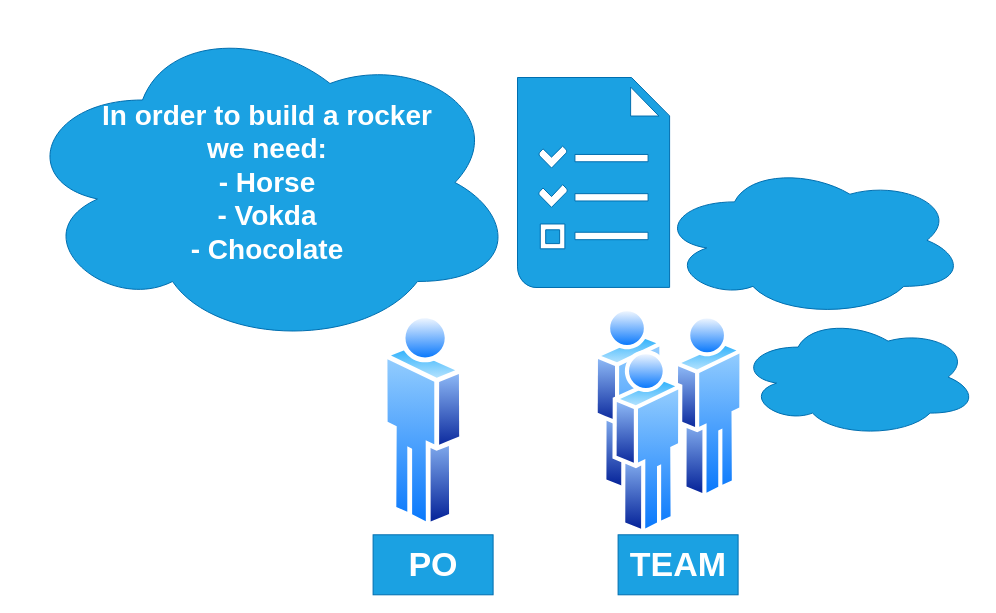
This 996x613 diagram has some shape labels left out. Here are the shapes that lost their labels. From the top down, the centre of each, then its label:
At (x=810, y=239): "Well, probably just vodka".
At (x=857, y=376): "It's a 5 story".
